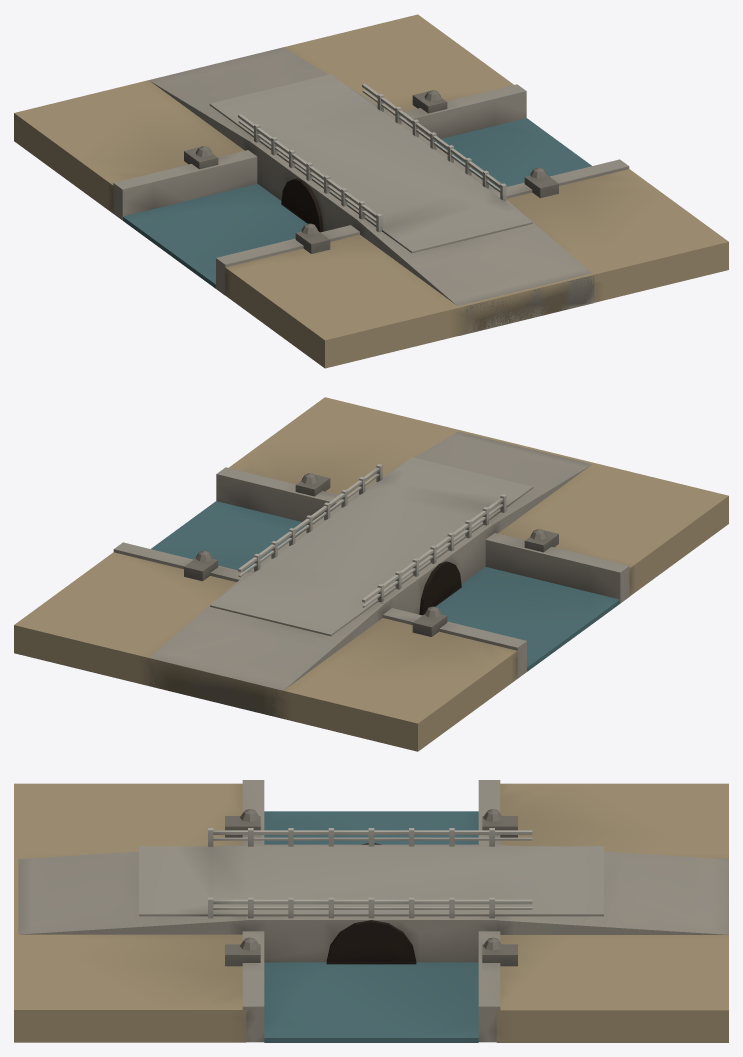
File: wanning-bridge.glb
3 renders of one model, top to bottom at view 1: azimuth 30°, elevation 25°; view 2: azimuth 150°, elevation 25°; view 3: azimuth 270°, elevation 25°, orthographic. The views are drawn at different scales.
Visible parts, largest first — view 1: p0_banks, p1_bridge, p2_beasts; view 2: p0_banks, p1_bridge, p2_beasts; view 3: p0_banks, p1_bridge, p2_beasts.
Part boxes in pixels (box(x1,y1,x2,y2)): p0_banks: box(14, 14, 728, 368); p1_bridge: box(149, 47, 594, 335); p2_beasts: box(184, 90, 558, 253); p0_banks: box(14, 397, 728, 751); p1_bridge: box(148, 431, 591, 718); p2_beasts: box(184, 473, 558, 636); p0_banks: box(14, 780, 728, 1042); p1_bridge: box(18, 828, 728, 964); p2_beasts: box(225, 809, 517, 966).
Size of the model in its own units: 30.02 by 4.05 by 40.
